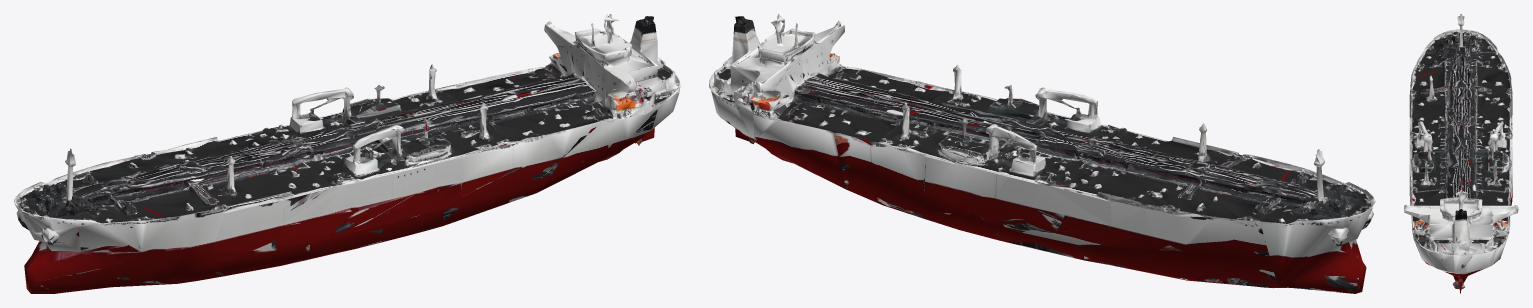
File: vlcc-tanker-meshy6-web-strategic-v2.glb
The picture shows the model from 3 angles, left to right: view 1: azimuth 30°, elevation 25°; view 2: azimuth 150°, elevation 25°; view 3: azimuth 270°, elevation 25°; orthographic projection. The views are drawn at different scales.
Bounding box in the file's own units: 1.9 × 0.4054 × 0.4271.
Materials: 1 (1 with a texture image).
